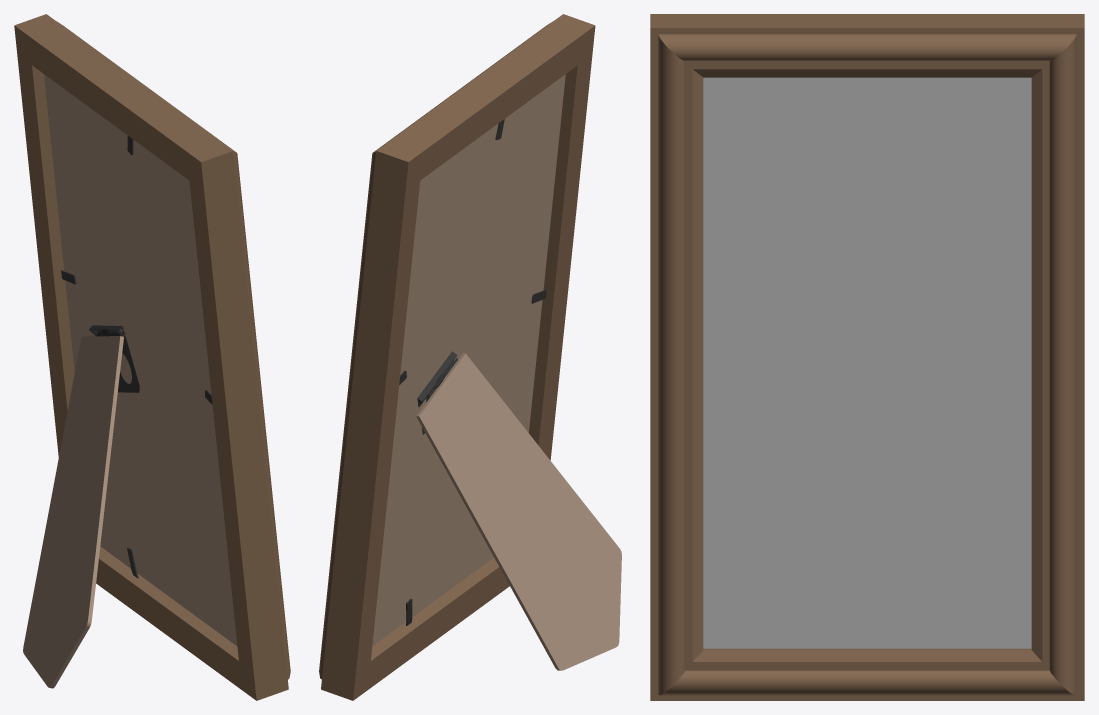
The model's file is y-frame.glb.
The picture shows the model from 3 angles, left to right: view 1: azimuth 30°, elevation 25°; view 2: azimuth 150°, elevation 25°; view 3: azimuth 270°, elevation 25°; orthographic projection. The views are drawn at different scales.
Parts seen in each view (by area): view 1: polySurface24, polySurface35, polySurface26, polySurface38, polySurface39; view 2: polySurface35, polySurface24, polySurface26, polySurface38; view 3: polySurface37, polySurface38, polySurface36, polySurface35.
Part boxes in pixels (x1,y1,x2,y2): polySurface24: [44, 74, 237, 645]; polySurface35: [14, 14, 288, 700]; polySurface26: [23, 336, 123, 688]; polySurface38: [58, 22, 290, 679]; polySurface39: [118, 339, 139, 392]; polySurface35: [321, 14, 595, 700]; polySurface24: [372, 74, 565, 646]; polySurface26: [416, 353, 621, 670]; polySurface38: [319, 21, 552, 679]; polySurface37: [703, 77, 1031, 648]; polySurface38: [658, 34, 1076, 695]; polySurface36: [685, 61, 1049, 670]; polySurface35: [650, 14, 1084, 700].
Size of the model in its own units: 1.79 by 5.18 by 3.15.
